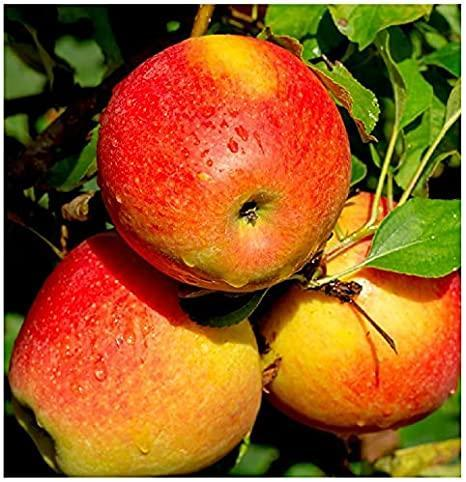apple: (94, 33, 355, 293), (8, 228, 261, 478), (261, 189, 458, 436)
